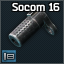M1A SOCOM 16 7.62x51 muzzle brake & compensator: (0, 0, 64, 64)
